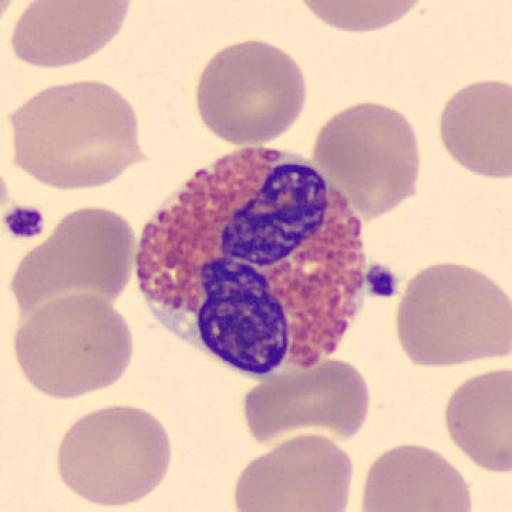RBC: (12, 204, 136, 333), (9, 78, 145, 192), (309, 100, 422, 222), (10, 292, 136, 401), (394, 260, 512, 370), (56, 403, 174, 510), (194, 38, 309, 147), (240, 357, 372, 444), (232, 431, 354, 512), (42, 205, 136, 307), (10, 0, 132, 69), (360, 441, 474, 512), (438, 78, 512, 180), (445, 368, 512, 474), (296, 0, 424, 35), (47, 0, 134, 24), (0, 0, 18, 35)
WBC: (135, 155, 368, 378)
